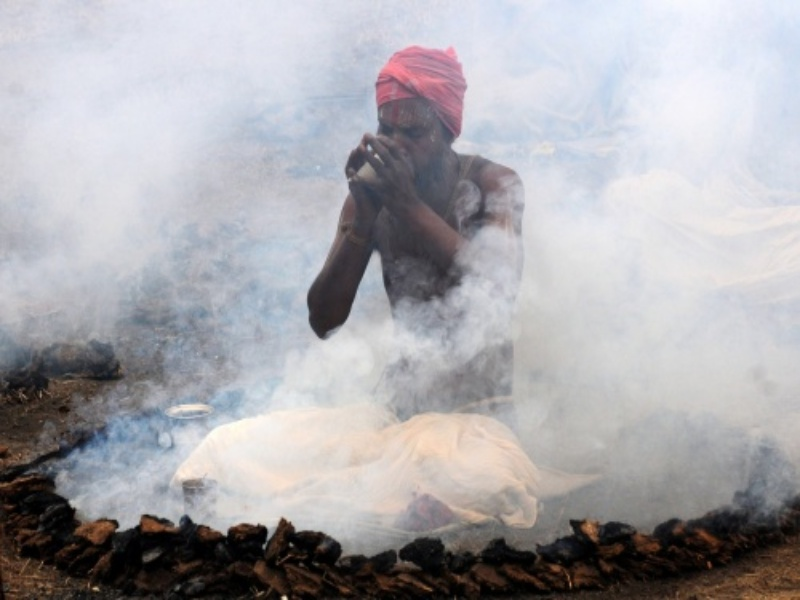smoke: (5, 7, 790, 511)
